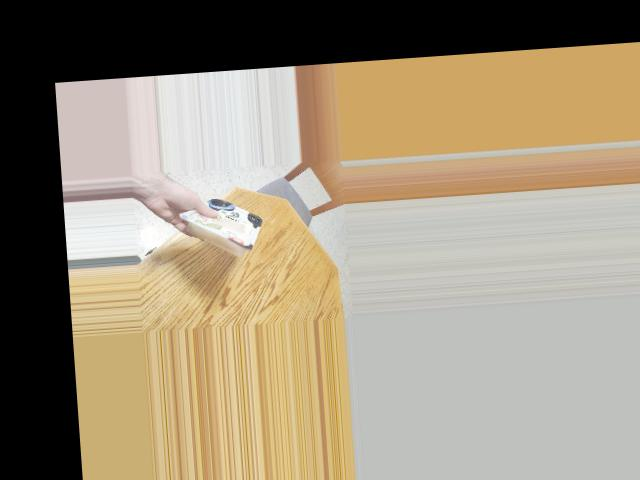cheese: (190, 185, 261, 266)
